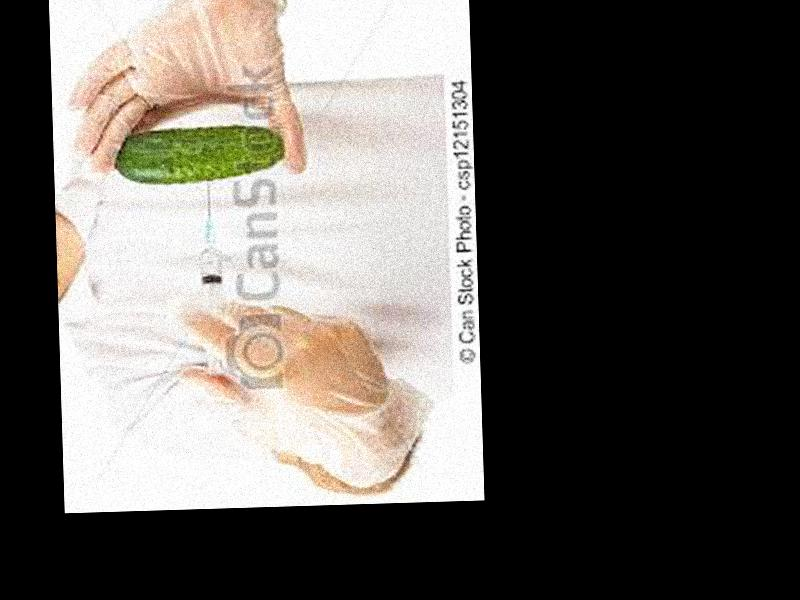Cucumber: (109, 122, 283, 183)
